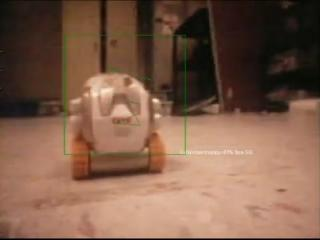cozmo: (66, 71, 166, 179)
